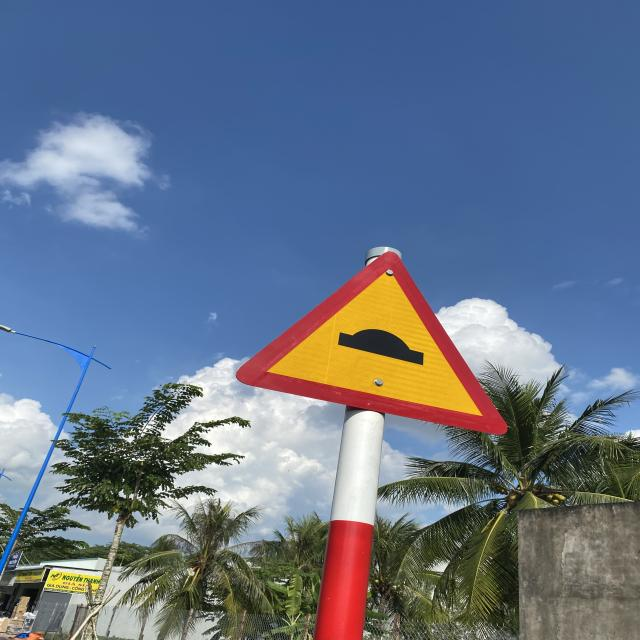Duong_Cong_Ben_Phai: (237, 252, 509, 435)
